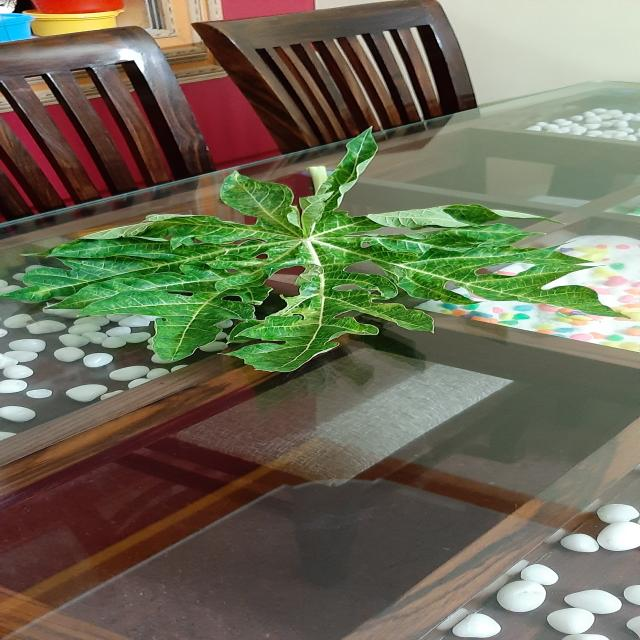papaya: (5, 131, 618, 371)
